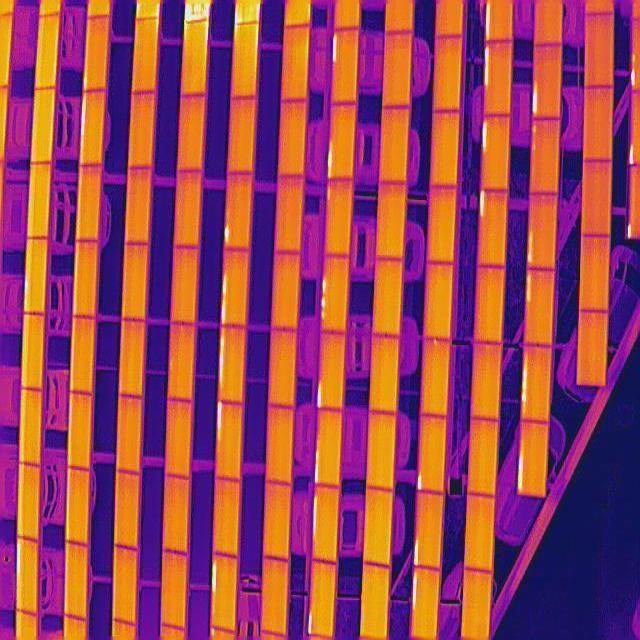Cell: (418, 415, 446, 493)
Cell-Multi: (530, 116, 560, 194), (322, 255, 351, 333)
No-Anomaly: (270, 250, 301, 329), (582, 160, 613, 238), (372, 258, 403, 336), (376, 181, 406, 260), (424, 261, 454, 340), (382, 30, 412, 109), (580, 235, 611, 311), (381, 104, 410, 184), (276, 175, 305, 255), (268, 328, 297, 408), (371, 335, 400, 415), (367, 410, 396, 490), (469, 418, 498, 498), (278, 100, 307, 179), (430, 109, 459, 188), (281, 25, 310, 103), (326, 178, 354, 258), (578, 312, 608, 386), (428, 185, 456, 264), (421, 340, 450, 416), (364, 489, 393, 565), (361, 564, 390, 640), (434, 34, 463, 110), (82, 15, 110, 93), (125, 165, 152, 245), (123, 242, 150, 322), (584, 12, 614, 84), (264, 482, 291, 562), (29, 84, 56, 164), (130, 90, 157, 169), (229, 95, 256, 174), (76, 165, 103, 244), (164, 476, 191, 555), (213, 476, 240, 555), (161, 550, 188, 629), (178, 95, 206, 171), (585, 85, 613, 161), (472, 342, 499, 420), (116, 395, 143, 473), (267, 407, 294, 485), (476, 268, 504, 342), (175, 170, 202, 246), (171, 245, 198, 321), (34, 12, 61, 88), (467, 495, 494, 571), (181, 20, 208, 96), (133, 16, 159, 94), (262, 558, 288, 636), (70, 312, 95, 393), (26, 162, 53, 236), (23, 236, 49, 312), (232, 25, 258, 101), (120, 318, 145, 397), (169, 323, 194, 402), (114, 546, 139, 625), (116, 471, 141, 549), (464, 569, 491, 640), (20, 314, 45, 390), (73, 240, 98, 315), (68, 392, 92, 468), (166, 400, 190, 476), (66, 469, 90, 545), (17, 462, 40, 538), (65, 542, 88, 618), (19, 392, 42, 466)
Unclassified: (524, 268, 556, 346), (533, 41, 563, 120), (478, 192, 509, 268), (225, 168, 253, 252), (216, 400, 245, 481), (328, 102, 357, 182), (483, 39, 513, 115), (318, 332, 347, 410), (481, 114, 510, 190), (529, 192, 558, 268), (415, 492, 444, 568), (221, 247, 249, 325), (314, 410, 342, 488), (523, 344, 551, 421), (518, 420, 547, 494), (80, 89, 107, 168), (311, 485, 339, 561), (219, 325, 246, 403), (332, 27, 359, 105), (211, 555, 239, 630), (308, 562, 336, 636), (412, 567, 440, 640), (15, 540, 38, 614)
